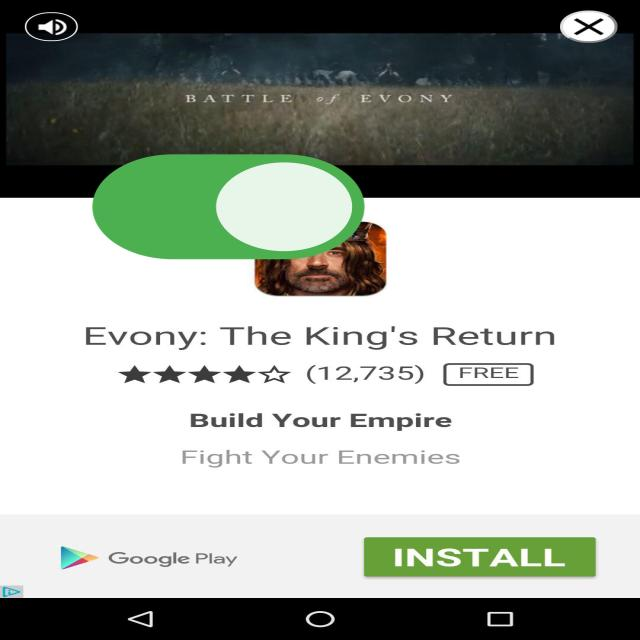social proof: (80, 114, 377, 308)
